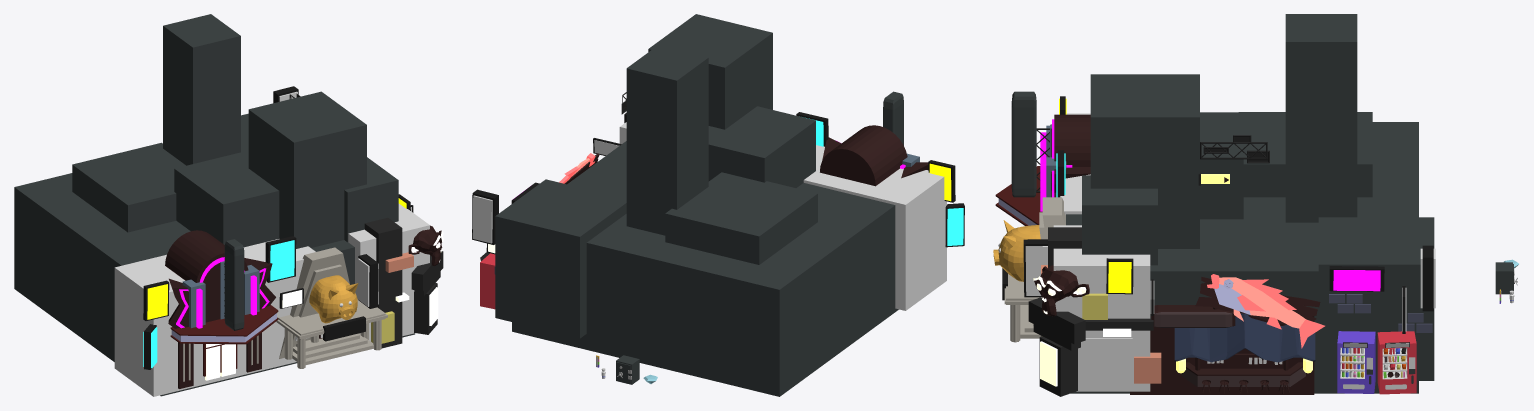
Rendered from kleptocity beta.fbx.
3 views of the same model, side by side, from view 1: azimuth 30°, elevation 25°; view 2: azimuth 150°, elevation 25°; view 3: azimuth 270°, elevation 25° (orthographic). The views are drawn at different scales.
Parts seen in each view (by area): view 1: Cube, Cube.020, Cube.090, Cube.053, Cube.091, Cube.072, Cylinder.014, Cube.060, Cube.031, Cube.030, Cube.057, Cube.058 (+24 smaller); view 2: Cube, Cube.067, Cube.090, Cube.072, Cube.053, Cube.020, Cube.091, Cylinder.014, Cube.056, Cube.089, Cube.058, Cube.061 (+3 smaller); view 3: Cube, Cube.020, Cube.090, Cube.067, Cube.030, Cube.060, Cube.072, Cube.003, Cube.008, Cube.091, Cube.042, Cube.058 (+30 smaller).
Part boxes in pixels (bbox=[...]): Cube: bbox=[14, 173, 415, 396]; Cube.020: bbox=[248, 91, 366, 248]; Cube.090: bbox=[163, 14, 240, 165]; Cube.053: bbox=[114, 239, 315, 396]; Cube.091: bbox=[174, 150, 279, 247]; Cube.072: bbox=[72, 142, 185, 232]; Cylinder.014: bbox=[165, 230, 275, 328]; Cube.060: bbox=[344, 157, 398, 242]; Cube.031: bbox=[364, 217, 402, 348]; Cube.030: bbox=[348, 203, 429, 341]; Cube.057: bbox=[170, 304, 278, 344]; Cube.058: bbox=[224, 239, 244, 330]; Cube: bbox=[512, 141, 898, 396]; Cube.067: bbox=[495, 179, 626, 338]; Cube.090: bbox=[626, 45, 708, 235]; Cube.072: bbox=[665, 172, 817, 264]; Cube.053: bbox=[803, 145, 946, 310]; Cube.020: bbox=[648, 14, 772, 129]; Cube.091: bbox=[708, 106, 815, 187]; Cylinder.014: bbox=[820, 125, 928, 186]; Cube.056: bbox=[472, 189, 498, 244]; Cube.089: bbox=[945, 203, 964, 247]; Cube.058: bbox=[883, 91, 903, 145]; Cube.061: bbox=[480, 253, 495, 309]; Cube: bbox=[1066, 122, 1418, 393]; Cube.020: bbox=[1090, 74, 1199, 248]; Cube.090: bbox=[1285, 14, 1357, 222]; Cube.067: bbox=[1318, 217, 1434, 380]; Cube.030: bbox=[1053, 225, 1150, 391]; Cube.060: bbox=[1082, 175, 1157, 265]; Cube.072: bbox=[1239, 112, 1372, 197]; Cube.003: bbox=[1174, 313, 1315, 362]; Cube.008: bbox=[1195, 274, 1324, 348]; Cube.091: bbox=[1200, 112, 1243, 219]; Cube.042: bbox=[1130, 315, 1314, 394]; Cube.058: bbox=[1011, 91, 1036, 197].
Size of what is drawn, in the model's own units: 8393 by 6943 by 5327.
